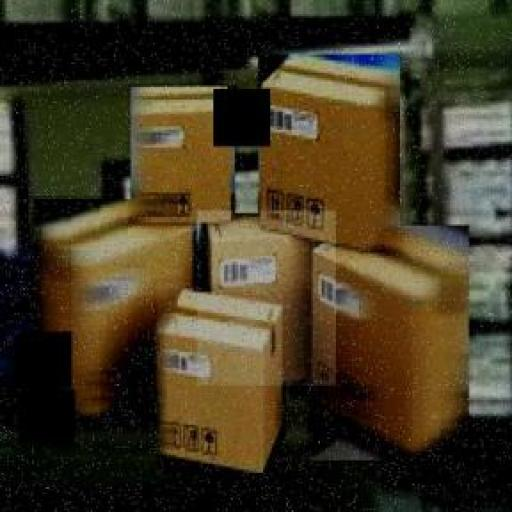box: (306, 223, 473, 463), (33, 196, 200, 422), (256, 51, 404, 257), (157, 282, 287, 476), (197, 212, 336, 386), (129, 85, 237, 223)
